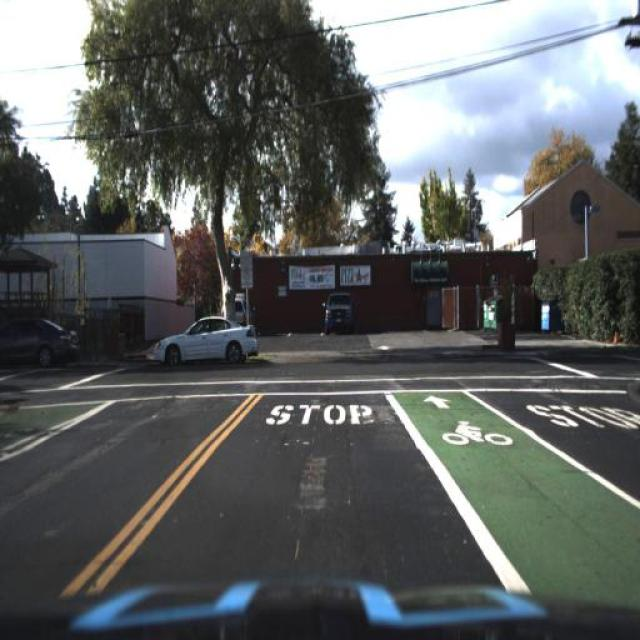car: (146, 302, 264, 386), (0, 310, 88, 382), (318, 287, 357, 333), (217, 302, 249, 329)
